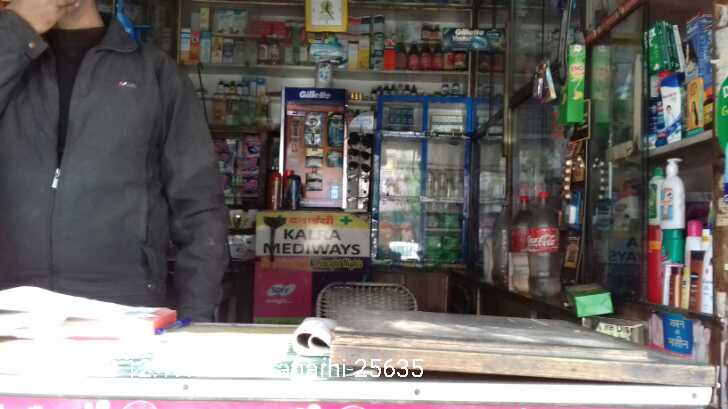vicks: (386, 102, 416, 131)
